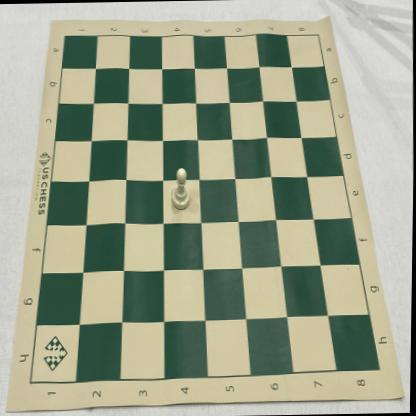white-pawn: (171, 167, 191, 211)
